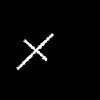single_crochet: (17, 34, 52, 69)
